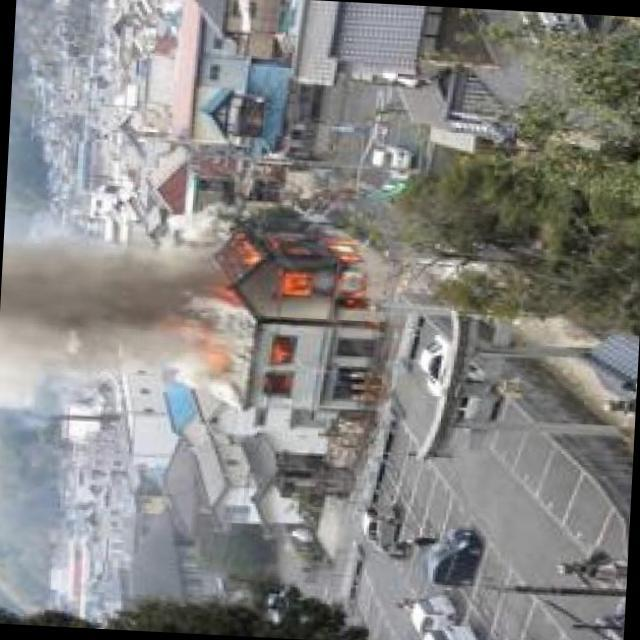Fire: (247, 226, 375, 305), (269, 336, 299, 373)
